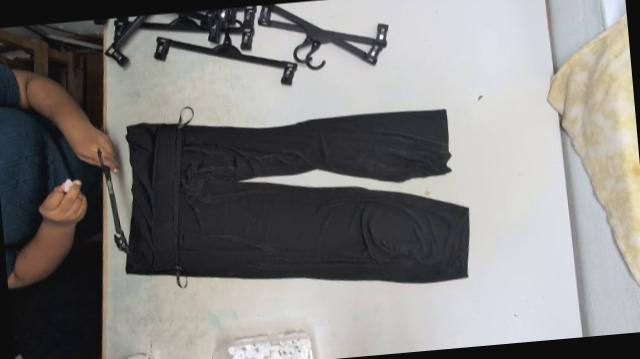new-garment: (127, 109, 469, 282)
